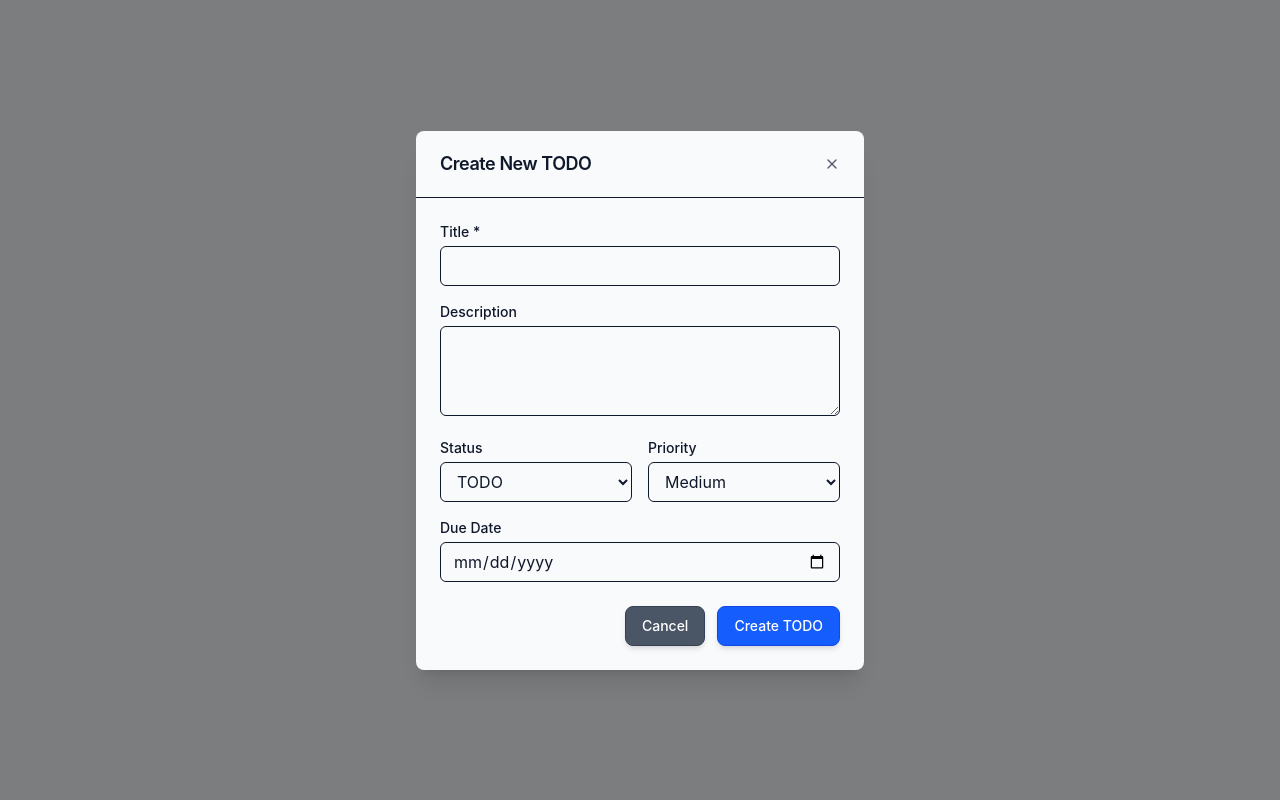
Test: TodoForm › shows validation error when title is empty
The width and height of the screenshot is (1280, 800).
What coordinates should you click on to do the following:
click the button "Create TODO"
I would click on:
 (779, 626)
Its box is x1=717 y1=606 x2=840 y2=646.
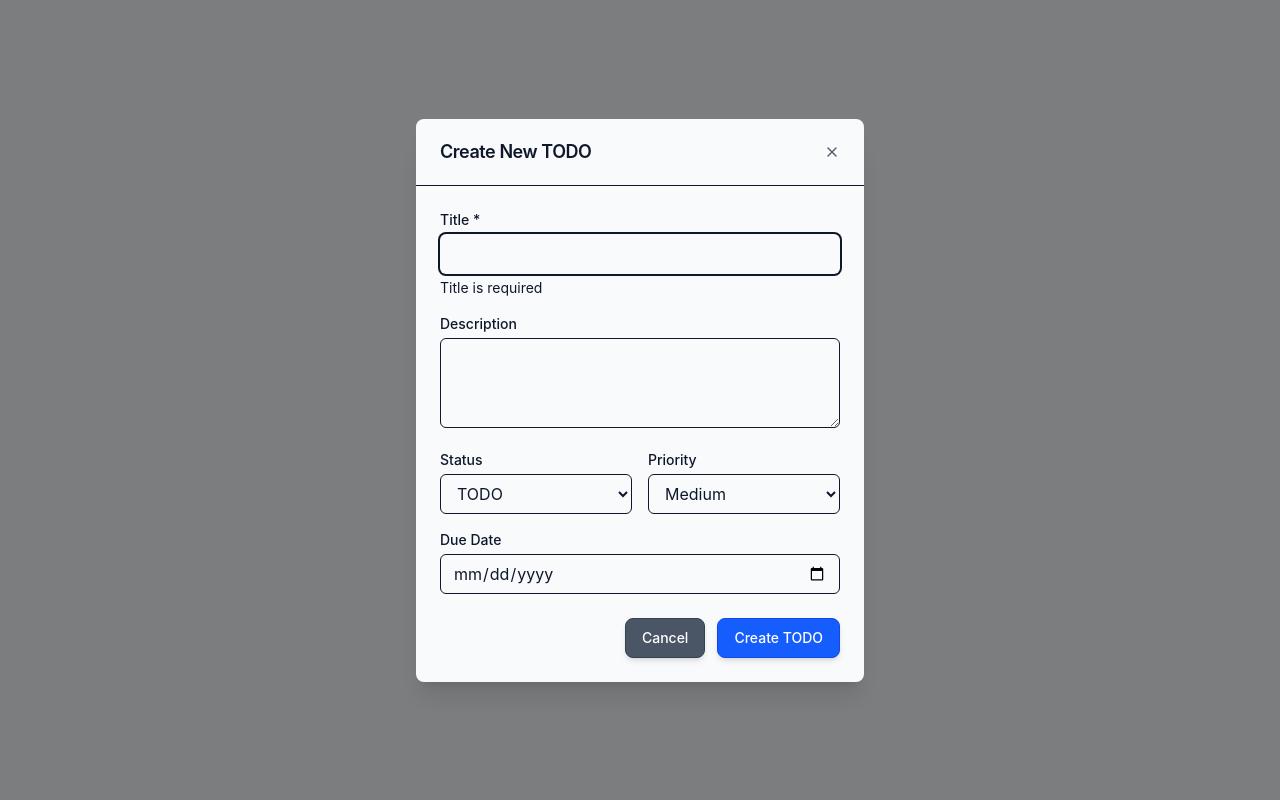
Result: the text "Title is required" is shown at x1=440 y1=278 x2=542 y2=296
